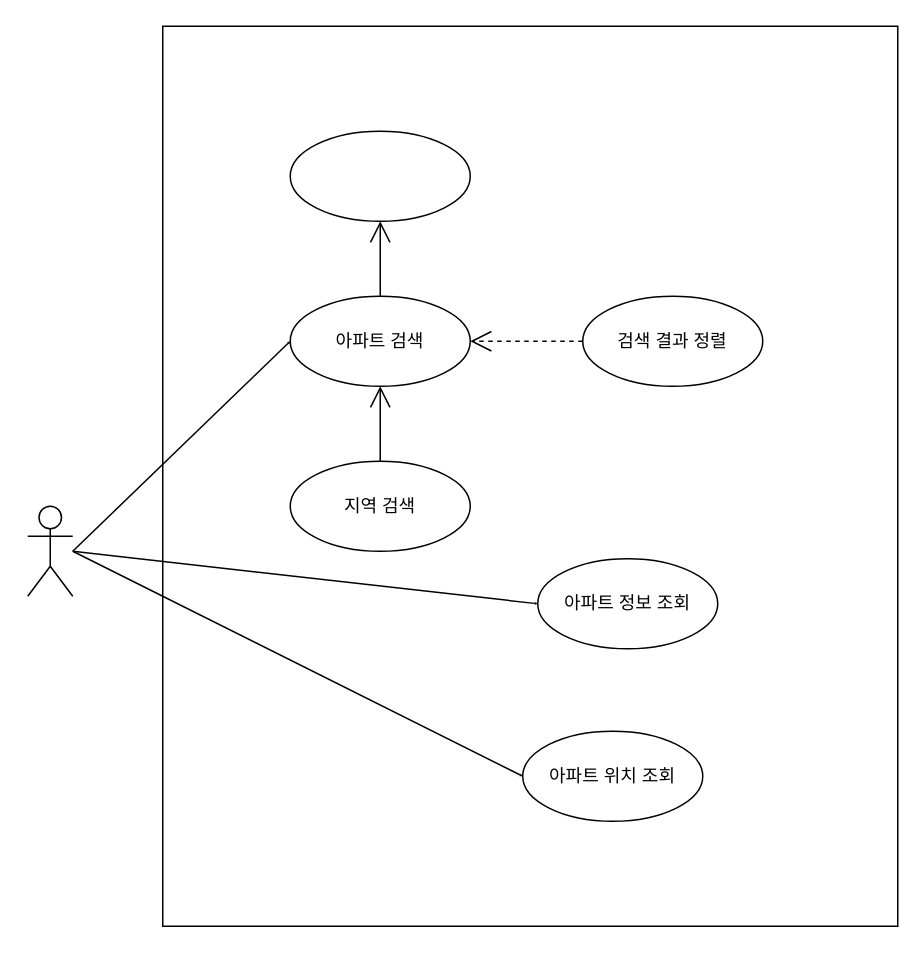
The diagram is 924 pixels wide and 953 high, and some of its shapes have lost their labels. The shapes that lost their labels are listed below. From the top down, each one's centre as x and y in pixels, then its label:
At [379,175]: "관심 지역 등록".
At [49,550]: "사용자".
